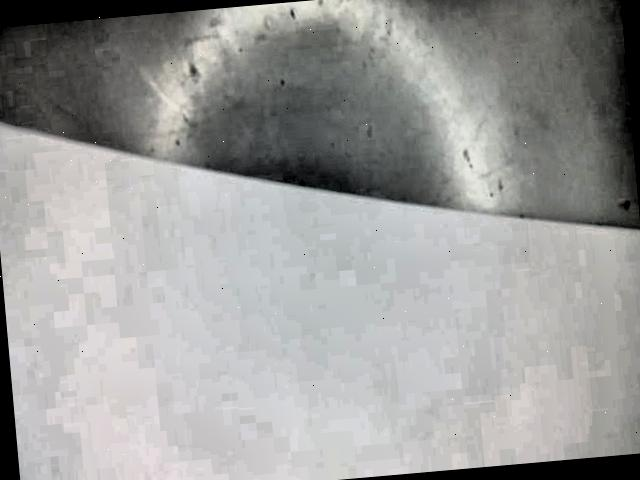Paper: (0, 119, 640, 480)
